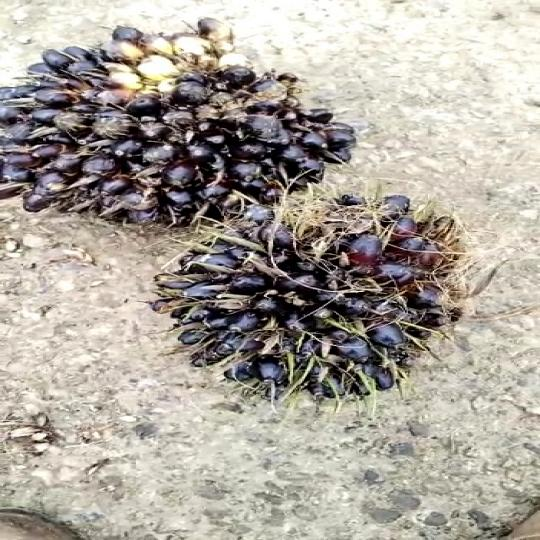mentah: (146, 187, 486, 417), (0, 12, 350, 232)
